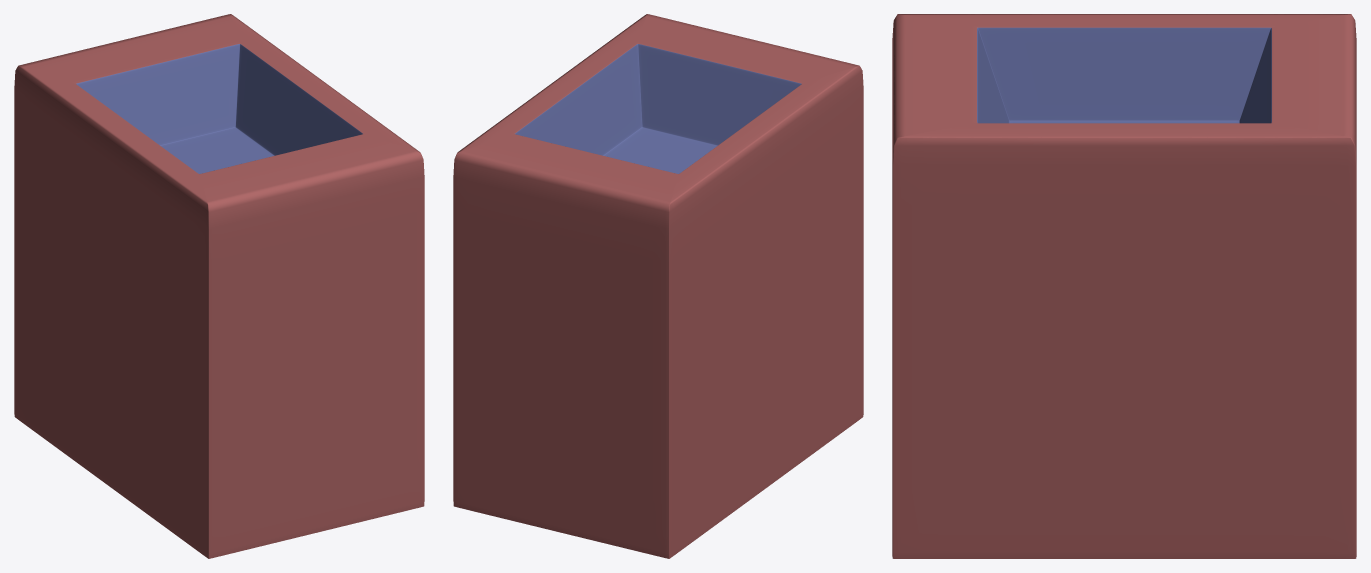
Rendered from Waschbecken_1_high.fbx.
3 views of the same model, side by side, from view 1: azimuth 30°, elevation 25°; view 2: azimuth 150°, elevation 25°; view 3: azimuth 270°, elevation 25° (orthographic). The views are drawn at different scales.
Visible parts, largest first — view 1: Waschbecken_1_high; view 2: Waschbecken_1_high; view 3: Waschbecken_1_high.
Boxes of the visible parts, bbox=[...] form: Waschbecken_1_high: bbox=[14, 14, 424, 558]; Waschbecken_1_high: bbox=[453, 14, 863, 558]; Waschbecken_1_high: bbox=[892, 14, 1356, 558].
Bounding box in the file's own units: 0.6417 × 1 × 1.
